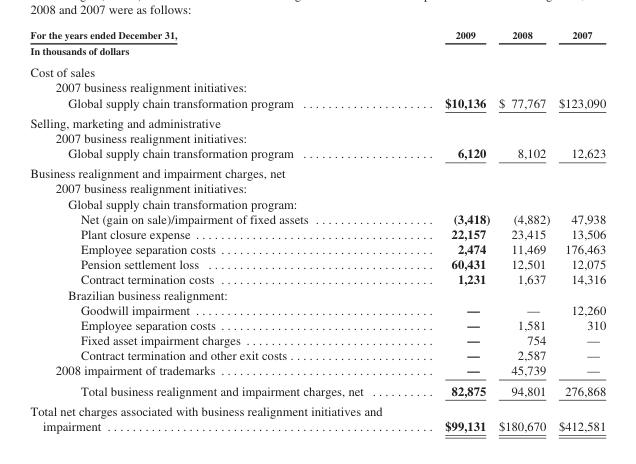table: (29, 29, 605, 432)
table column: (29, 29, 412, 432), (412, 29, 493, 432), (493, 29, 553, 432), (553, 29, 605, 432)
table column header: (29, 29, 605, 42)
table projected row header: (29, 60, 605, 79), (29, 42, 605, 60), (29, 112, 605, 130), (29, 162, 605, 180), (29, 79, 605, 94), (29, 130, 605, 145), (29, 180, 605, 195), (29, 195, 605, 210), (29, 286, 605, 301)
table row: (29, 400, 605, 432), (29, 379, 605, 400), (29, 60, 605, 79), (29, 42, 605, 60), (29, 94, 605, 112), (29, 112, 605, 130), (29, 162, 605, 180), (29, 145, 605, 162), (29, 362, 605, 379), (29, 225, 605, 241), (29, 331, 605, 347), (29, 79, 605, 94), (29, 130, 605, 145), (29, 180, 605, 195), (29, 195, 605, 210), (29, 210, 605, 225), (29, 241, 605, 256), (29, 256, 605, 271), (29, 271, 605, 286), (29, 286, 605, 301), (29, 301, 605, 316), (29, 316, 605, 331), (29, 347, 605, 362), (29, 29, 605, 42)
